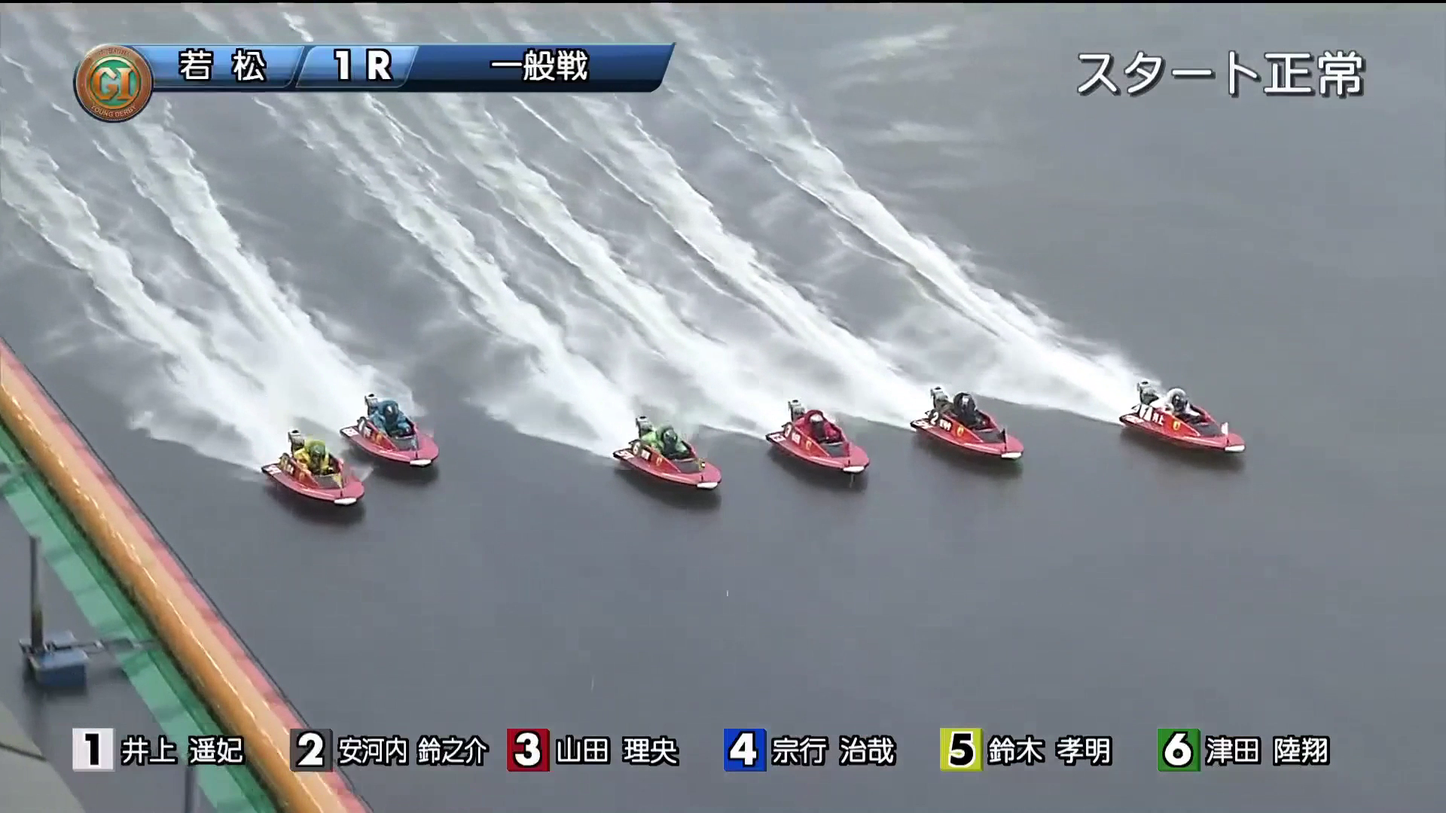１号艇: (1138, 373, 1247, 420)
２号艇: (922, 385, 1030, 434)
３号艇: (769, 425, 883, 467)
４号艇: (627, 435, 739, 489)
５号艇: (341, 409, 463, 464)
６号艇: (290, 470, 390, 527)
